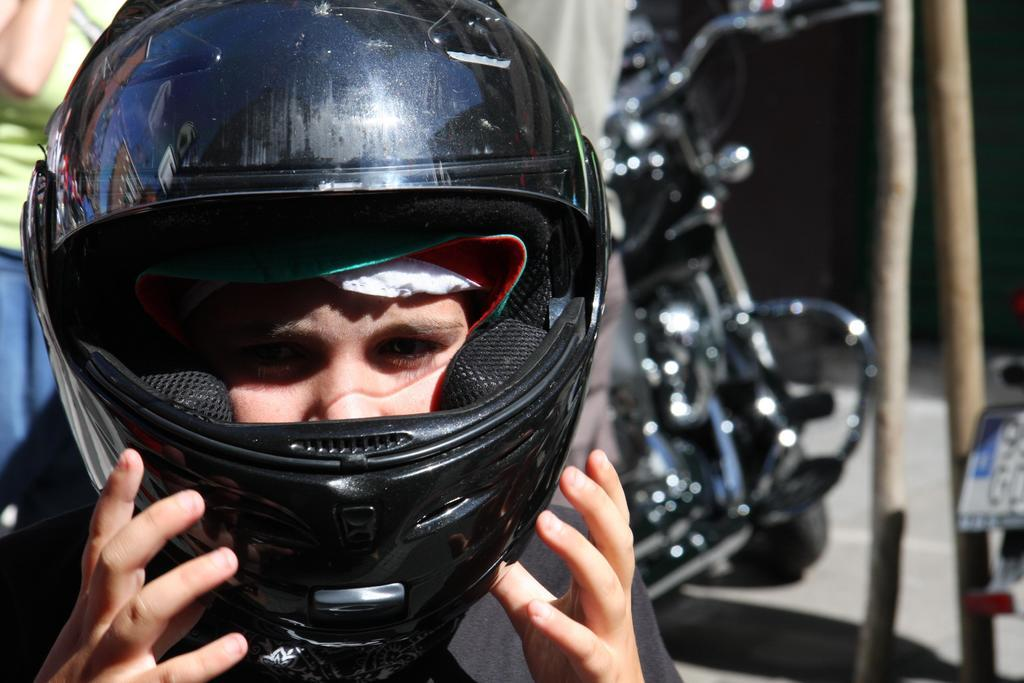helmet: (19, 0, 611, 651)
